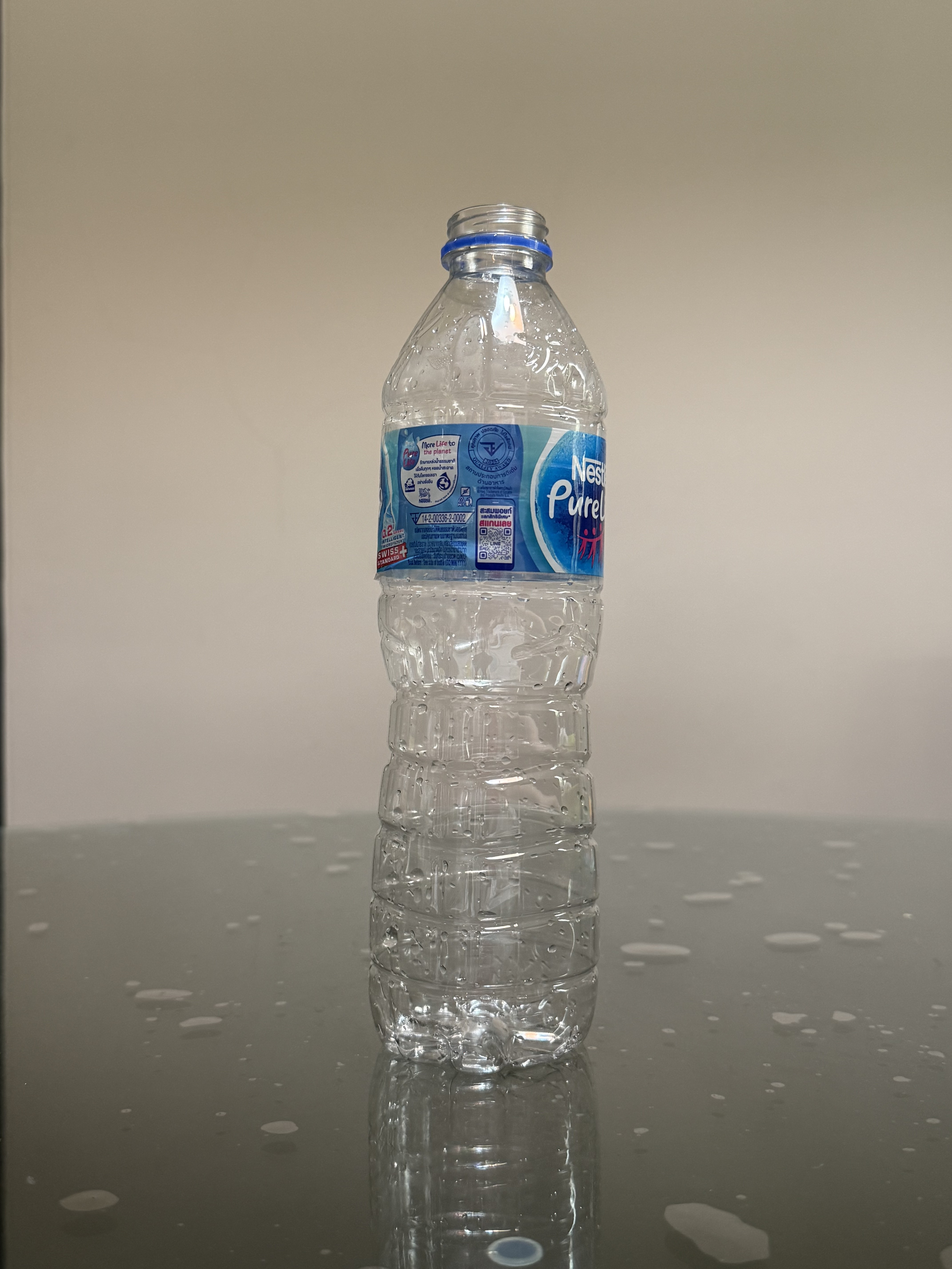no_cap: (439, 201, 556, 266)
